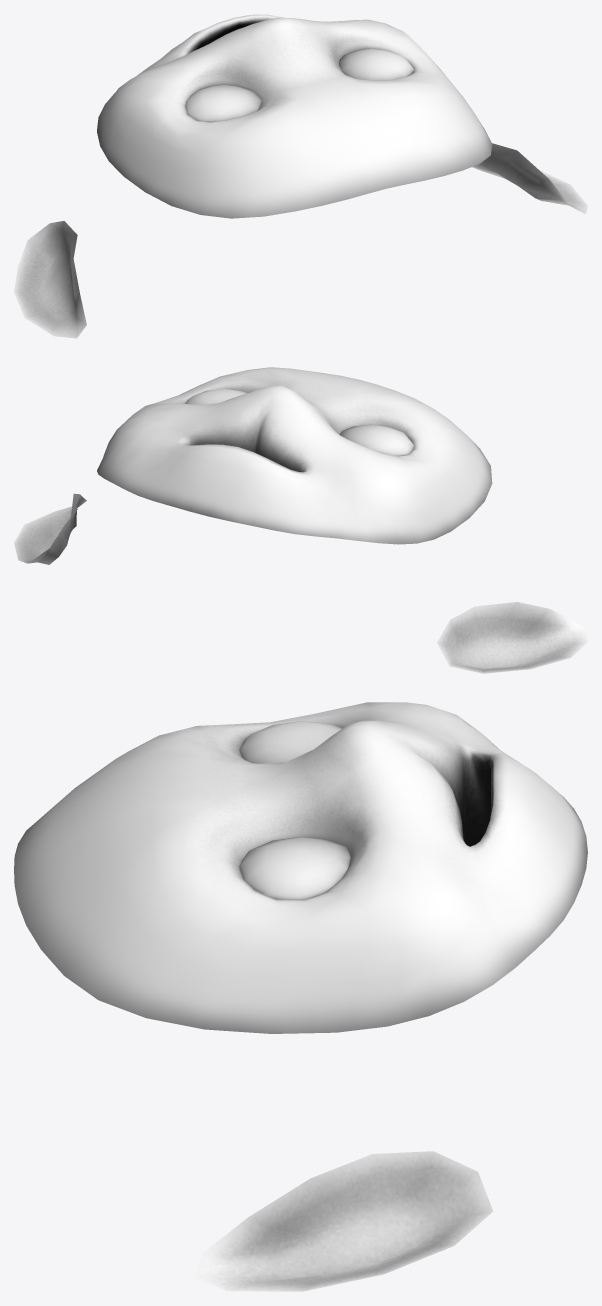
The model's file is tubby_face.obj.
3 renders of one model, top to bottom at view 1: azimuth 30°, elevation 25°; view 2: azimuth 150°, elevation 25°; view 3: azimuth 270°, elevation 25°, orthographic. The views are drawn at different scales.
Parts seen in each view (by area): view 1: tellyFace_Plane.003; view 2: tellyFace_Plane.003; view 3: tellyFace_Plane.003.
Boxes of the visible parts, left/top/right/bottom form: tellyFace_Plane.003: left=14, top=14, right=587, bottom=338; tellyFace_Plane.003: left=14, top=367, right=587, bottom=673; tellyFace_Plane.003: left=14, top=702, right=587, bottom=1291.
Bounding box in the file's own units: 0.2857 × 0.1124 × 0.1612.
Materials: 1 (1 with a texture image).
